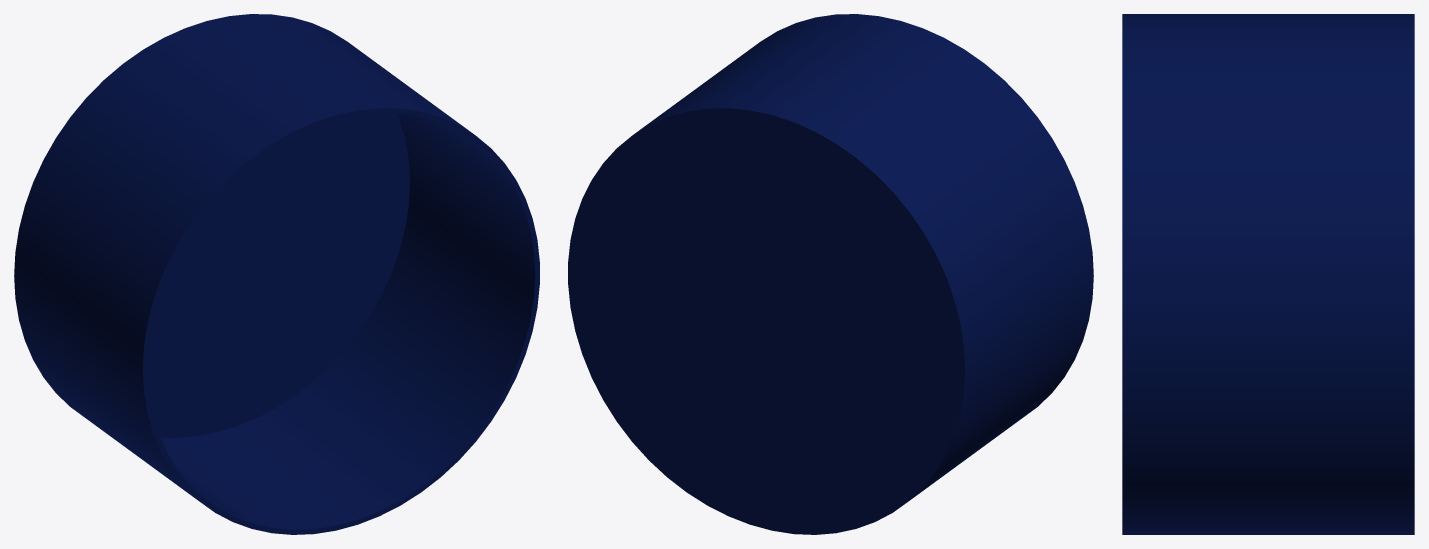
File: wetlab_tank.glb
3 views of the same model, side by side, from view 1: azimuth 30°, elevation 25°; view 2: azimuth 150°, elevation 25°; view 3: azimuth 270°, elevation 25° (orthographic). The views are drawn at different scales.
Parts seen in each view (by area): view 1: tank; view 2: tank; view 3: tank.
Part boxes in pixels (x1,y1,x2,y2): tank: (14, 14, 539, 534); tank: (568, 14, 1093, 534); tank: (1122, 14, 1414, 534).
Bounding box in the file's own units: 2.05 × 2.05 × 1.15.
